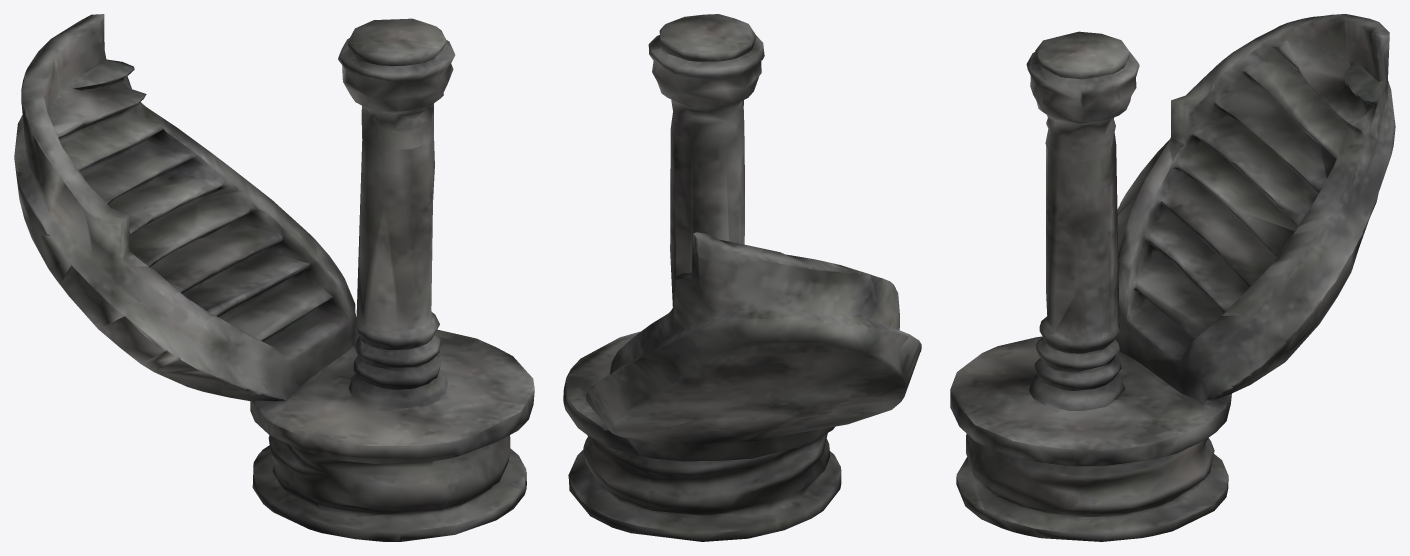
File: old-granite-spiral-staircase-v001.glb
The picture shows the model from 3 angles, left to right: view 1: azimuth 30°, elevation 25°; view 2: azimuth 150°, elevation 25°; view 3: azimuth 270°, elevation 25°; orthographic projection. The views are drawn at different scales.
Parts seen in each view (by area): view 1: old-granite-spiral-staircase; view 2: old-granite-spiral-staircase; view 3: old-granite-spiral-staircase.
Boxes of the visible parts, <box> form: old-granite-spiral-staircase: <box>14,14,534,541</box>; old-granite-spiral-staircase: <box>563,14,921,541</box>; old-granite-spiral-staircase: <box>950,14,1395,541</box>.
Bounding box in the file's own units: 2.3 × 2.48 × 2.28.
Materials: 1 (1 with a texture image).
